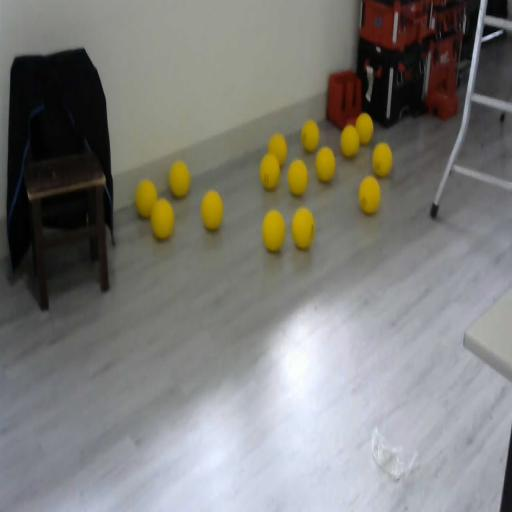FUEL: (262, 208, 286, 252), (200, 188, 224, 232), (291, 206, 315, 250), (150, 197, 174, 241), (134, 178, 158, 218), (358, 175, 380, 215), (168, 160, 191, 198), (314, 146, 336, 183), (287, 158, 308, 196), (372, 142, 393, 177), (268, 132, 288, 168), (340, 124, 360, 158), (355, 111, 374, 144), (301, 119, 319, 152)
